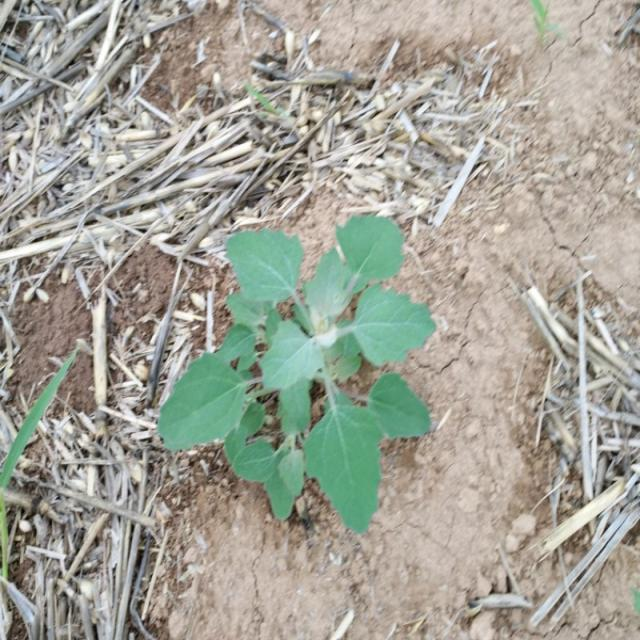goosefoots: (155, 209, 432, 515)
